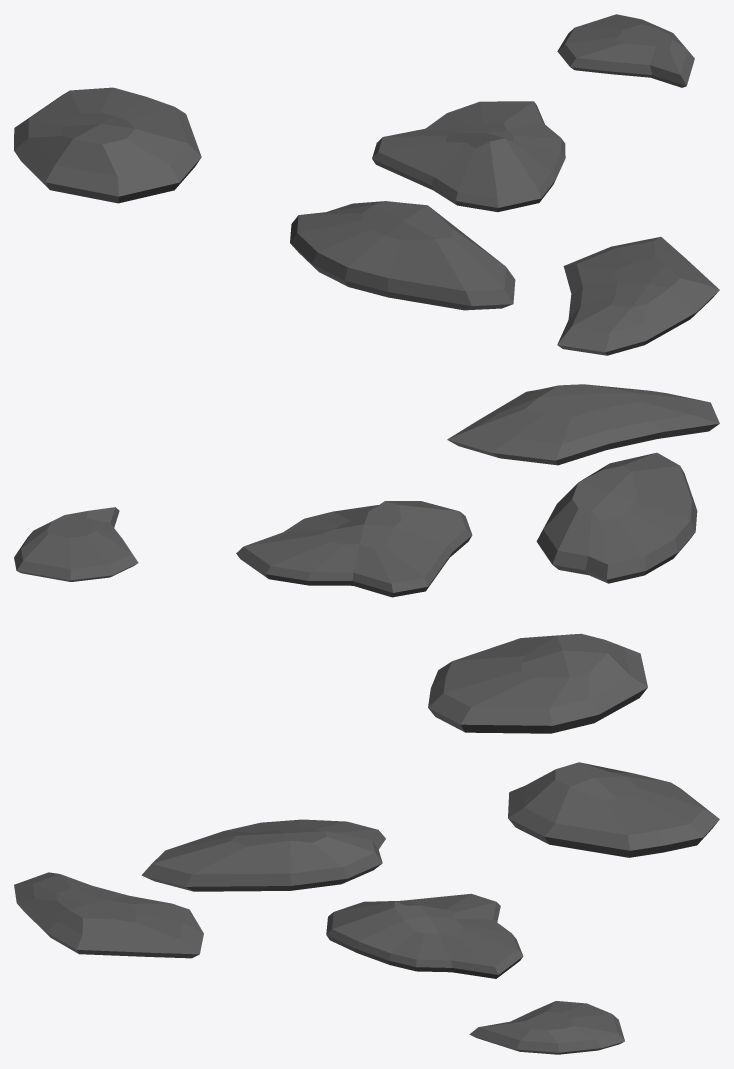
Rendered from palmrock.glb.
3 views of the same model, one above another, from view 1: azimuth 30°, elevation 25°; view 2: azimuth 150°, elevation 25°; view 3: azimuth 270°, elevation 25° (orthographic). The views are drawn at different scales.
Parts seen in each view (by area): view 1: PalmRock1-col; view 2: PalmRock1-col; view 3: PalmRock1-col.
Boxes of the visible parts, bbox=[...] form: PalmRock1-col: bbox=[14, 14, 719, 355]; PalmRock1-col: bbox=[14, 384, 719, 733]; PalmRock1-col: bbox=[14, 762, 719, 1054].
Bounding box in the file's own units: 1.07 × 0.0763 × 1.17.
1 material, 1 textured.
